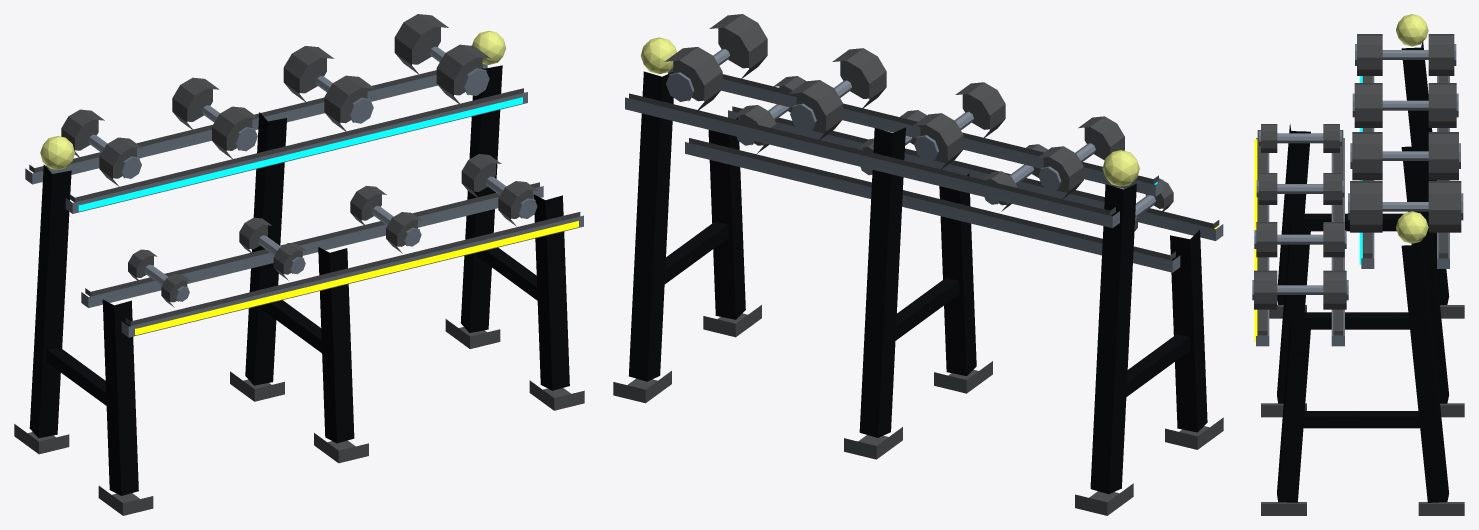
The model's file is tt_gym_dumbbell_rack_s.glb.
3 renders of one model, left to right at view 1: azimuth 30°, elevation 25°; view 2: azimuth 150°, elevation 25°; view 3: azimuth 270°, elevation 25°, orthographic. The views are drawn at different scales.
Visible parts, largest first — view 1: Frame_Legs, Tier1_Bell_Heads, Tier0_Rails, Tier0_Bell_Heads, Tier1_Rails, Rubber_Feet, Tier0_Pads, Tier1_Pads, Tier1_LED, Tier0_LED, Tier1_End_Caps, Ball_Finials (+3 smaller); view 2: Frame_Legs, Tier1_Bell_Heads, Tier1_Rails, Tier0_Rails, Rubber_Feet, Tier1_Pads, Tier0_Pads, Tier0_Bell_Heads, Tier1_End_Caps, Ball_Finials, Tier1_Grips, Tier0_Grips; view 3: Frame_Legs, Tier1_Bell_Heads, Tier0_Bell_Heads, Rubber_Feet, Tier0_Grips, Tier1_Grips, Tier0_Pads, Ball_Finials, Tier0_Rails, Tier1_Pads, Tier1_Rails, Tier0_LED (+2 smaller).
Boxes of the visible parts, <box> form: Frame_Legs: <box>29,65,569,495</box>; Tier1_Bell_Heads: <box>61,14,490,186</box>; Tier0_Rails: <box>81,186,583,337</box>; Tier0_Bell_Heads: <box>128,154,538,307</box>; Tier1_Rails: <box>25,64,527,213</box>; Rubber_Feet: <box>14,319,584,515</box>; Tier0_Pads: <box>85,182,580,325</box>; Tier1_Pads: <box>29,70,523,202</box>; Tier1_LED: <box>78,97,522,211</box>; Tier0_LED: <box>135,221,578,334</box>; Tier1_End_Caps: <box>120,68,489,178</box>; Ball_Finials: <box>40,30,505,170</box>; Frame_Legs: <box>628,71,1207,494</box>; Tier1_Bell_Heads: <box>664,14,1124,199</box>; Tier1_Rails: <box>625,68,1163,228</box>; Tier0_Rails: <box>685,110,1223,272</box>; Rubber_Feet: <box>613,305,1223,515</box>; Tier1_Pads: <box>629,74,1158,215</box>; Tier0_Pads: <box>689,106,1219,260</box>; Tier0_Bell_Heads: <box>734,76,1173,231</box>; Tier1_End_Caps: <box>666,72,1061,190</box>; Ball_Finials: <box>641,37,1139,186</box>; Tier1_Grips: <box>694,49,1095,163</box>; Tier0_Grips: <box>754,104,1155,217</box>; Frame_Legs: <box>1277,42,1449,502</box>; Tier1_Bell_Heads: <box>1350,34,1461,232</box>; Tier0_Bell_Heads: <box>1254,124,1346,309</box>; Rubber_Feet: <box>1261,305,1464,515</box>; Tier0_Grips: <box>1277,133,1323,294</box>; Tier1_Grips: <box>1382,50,1428,211</box>; Tier0_Pads: <box>1257,130,1343,335</box>; Ball_Finials: <box>1396,14,1428,243</box>; Tier0_Rails: <box>1256,138,1344,346</box>; Tier1_Pads: <box>1363,76,1448,258</box>; Tier1_Rails: <box>1361,76,1449,268</box>; Tier0_LED: <box>1254,139,1257,341</box>.
Size of what is drawn, in the model's own units: 1.52 by 1.03 by 0.647.
Materials: 7 (3 with a texture image).
